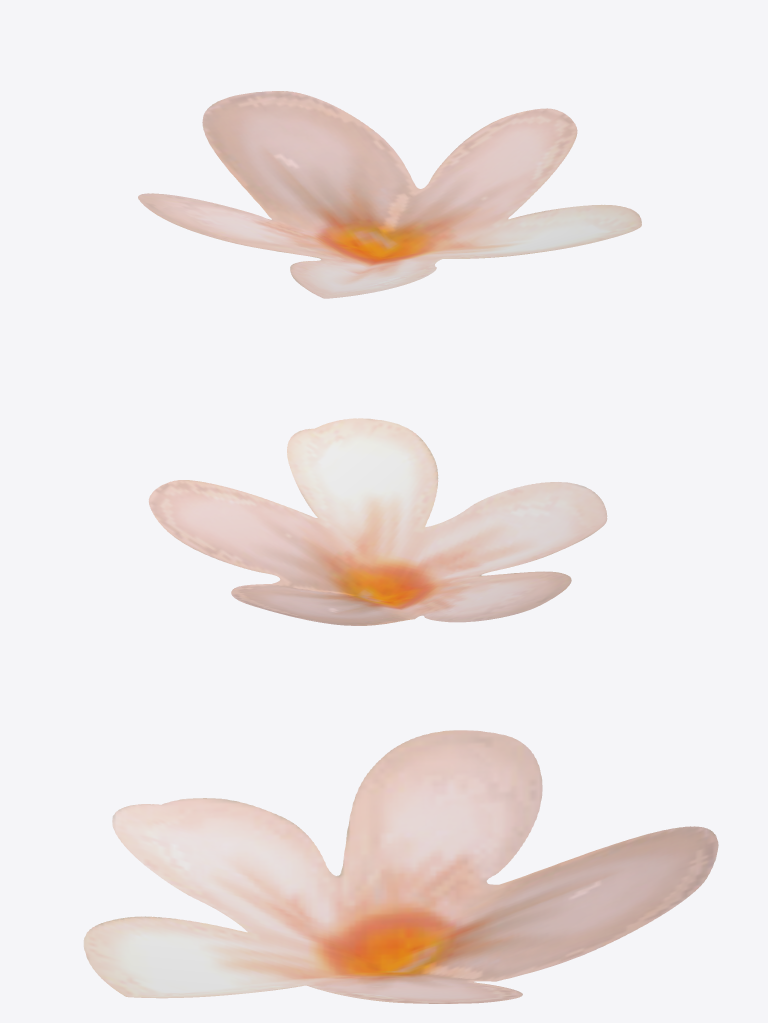
The model's file is Flower.fbx.
3 renders of one model, top to bottom at view 1: azimuth 30°, elevation 25°; view 2: azimuth 150°, elevation 25°; view 3: azimuth 270°, elevation 25°, orthographic. The views are drawn at different scales.
Parts seen in each view (by area): view 1: geo_Flower; view 2: geo_Flower; view 3: geo_Flower.
Boxes of the visible parts, box(x1,y1,x2,y2) form: geo_Flower: box(138, 91, 641, 298); geo_Flower: box(148, 418, 607, 625); geo_Flower: box(83, 730, 718, 1003).
Size of the model in its own units: 5.38 by 0.9398 by 5.38.
